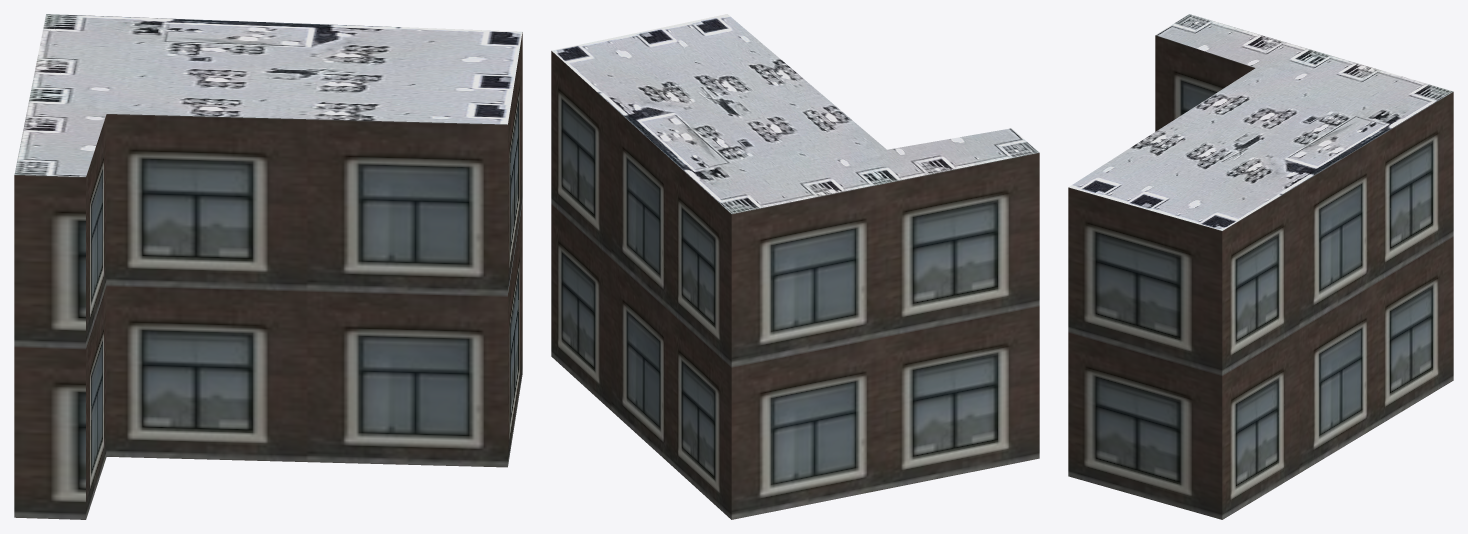
File: ResTex__895.fbx
3 views of the same model, side by side, from view 1: azimuth 30°, elevation 25°; view 2: azimuth 150°, elevation 25°; view 3: azimuth 270°, elevation 25° (orthographic). The views are drawn at different scales.
Parts seen in each view (by area): view 1: CityEngineMaterial_16_m, CityEngineMaterial_15_m; view 2: CityEngineMaterial_16_m, CityEngineMaterial_15_m; view 3: CityEngineMaterial_16_m, CityEngineMaterial_15_m.
Part boxes in pixels (x1,y1,x2,y2): CityEngineMaterial_16_m: (14,32,522,519); CityEngineMaterial_15_m: (14,14,522,176); CityEngineMaterial_16_m: (551,51,1039,519); CityEngineMaterial_15_m: (552,14,1038,213); CityEngineMaterial_16_m: (1068,35,1453,519); CityEngineMaterial_15_m: (1068,14,1453,230).
Bounding box in the file's own units: 9.66 × 6 × 7.25.
Materials: 2 (2 with a texture image).
